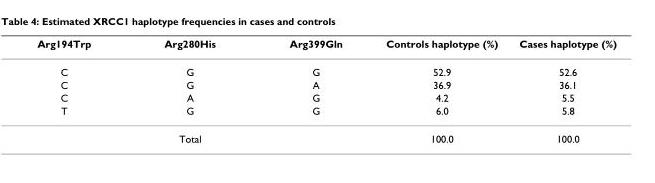table: (36, 37, 615, 144)
table column: (363, 37, 507, 144), (126, 37, 251, 144), (251, 37, 363, 144), (507, 37, 615, 144), (36, 37, 126, 144)
table column header: (36, 37, 615, 57)
table row: (36, 103, 615, 124), (36, 37, 615, 57), (36, 57, 615, 77), (36, 124, 615, 144), (36, 77, 615, 90), (36, 90, 615, 103)
table spanning cell: (36, 124, 363, 144)
